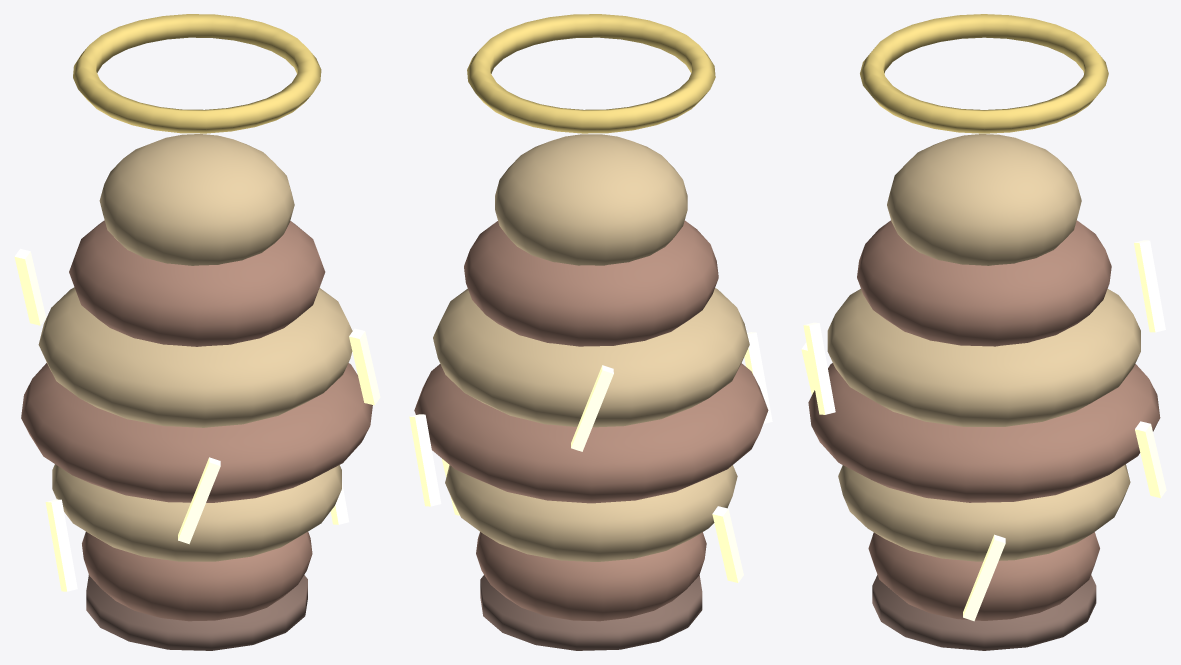
File: egg_desert_07.glb
3 views of the same model, side by side, from view 1: azimuth 30°, elevation 25°; view 2: azimuth 150°, elevation 25°; view 3: azimuth 270°, elevation 25° (orthographic).
Parts seen in each view (by area): view 1: ball; view 2: ball; view 3: ball.
Boxes of the visible parts, x1,y1,x2,y2 form: ball: [14, 14, 380, 650]; ball: [409, 14, 772, 650]; ball: [801, 14, 1166, 650].
Bounding box in the file's own units: 0.6922 × 1.17 × 0.7186.
